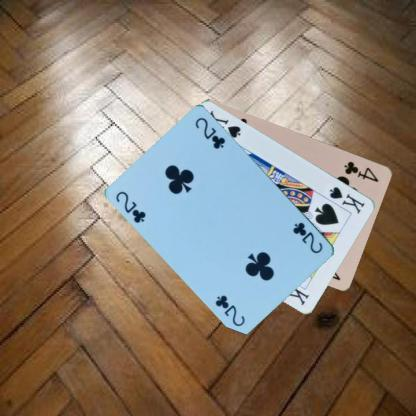2c: (113, 188, 148, 225), (290, 219, 324, 254)
4c: (342, 158, 380, 183)
Ks: (326, 184, 366, 216)
